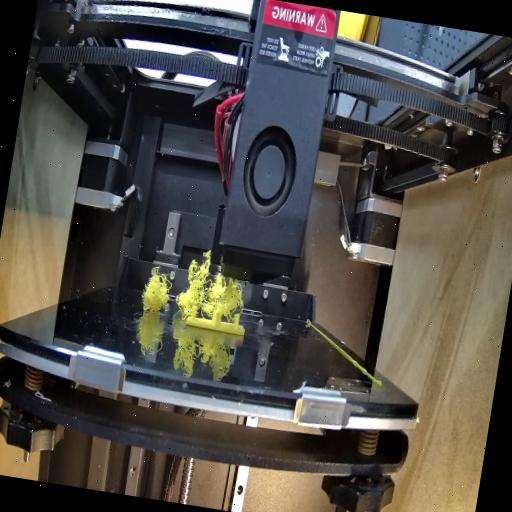spaghetti: (174, 254, 244, 320), (140, 268, 174, 315)
